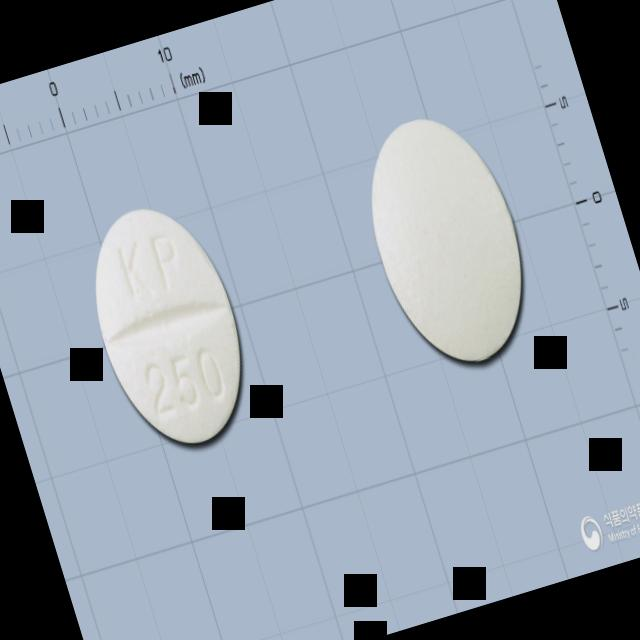Kipocin: (70, 189, 268, 461)
